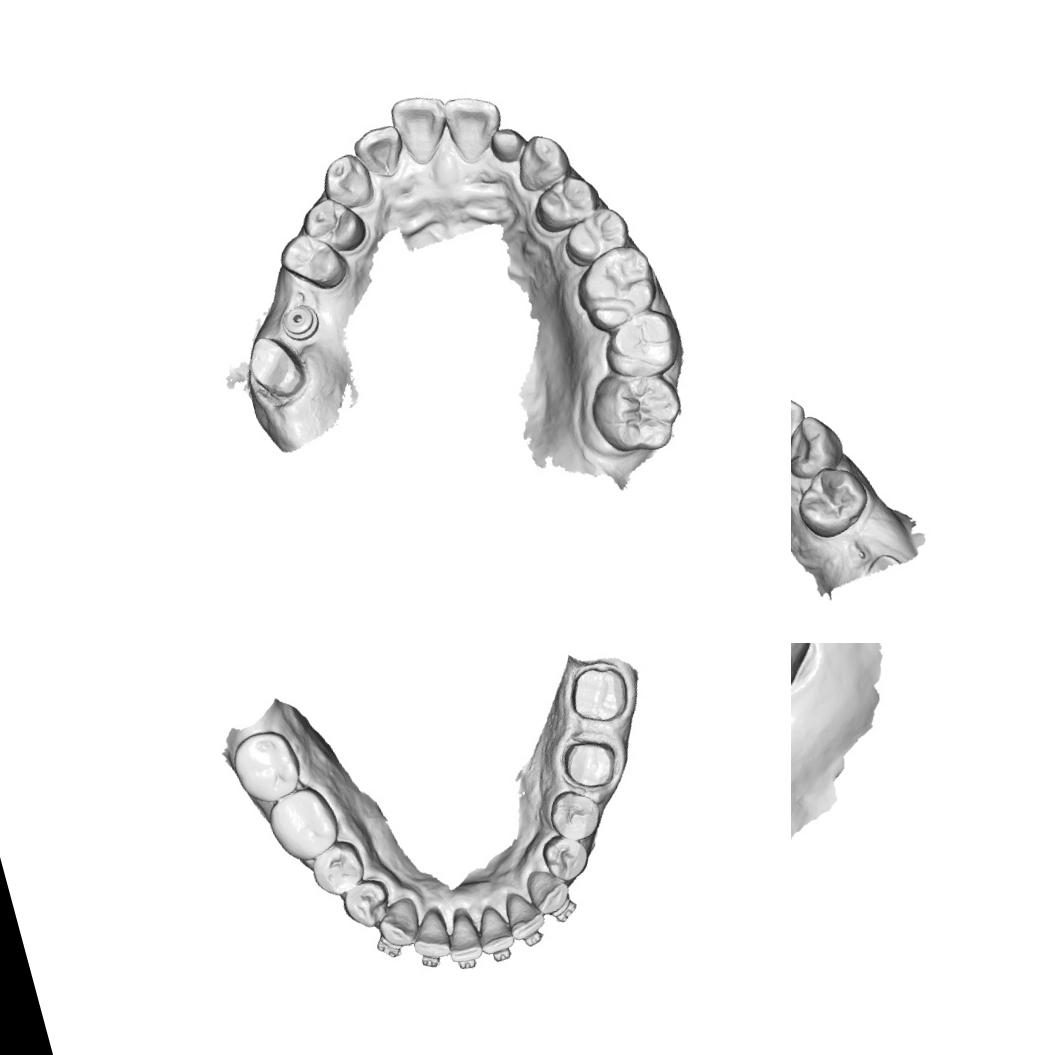canine: (508, 126, 576, 196), (315, 148, 379, 216), (791, 407, 847, 481), (372, 894, 424, 952), (523, 861, 574, 918)
crown: (558, 655, 637, 734), (241, 326, 315, 410), (553, 728, 626, 800)
implant: (275, 298, 324, 345)
incisor: (439, 87, 511, 167), (386, 88, 456, 170), (349, 121, 410, 184), (404, 906, 453, 963), (501, 884, 548, 942), (470, 901, 516, 956), (440, 909, 484, 966), (486, 122, 530, 168), (791, 383, 810, 454)
molar: (581, 358, 692, 464), (565, 238, 666, 337), (594, 302, 688, 386), (261, 780, 345, 867), (225, 724, 306, 810)
premolar: (791, 459, 875, 543), (271, 222, 354, 302), (294, 188, 371, 262), (555, 200, 636, 270), (527, 170, 606, 238), (305, 835, 369, 900), (543, 782, 605, 846), (337, 874, 395, 932), (538, 828, 594, 886)
